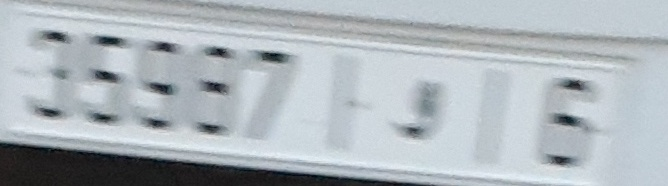3: (536, 71, 593, 171)
5: (389, 74, 448, 146)
6: (25, 18, 72, 124)
7: (133, 37, 184, 134)
8: (194, 42, 239, 140)
9: (244, 42, 301, 149)
waw: (82, 29, 124, 132)
